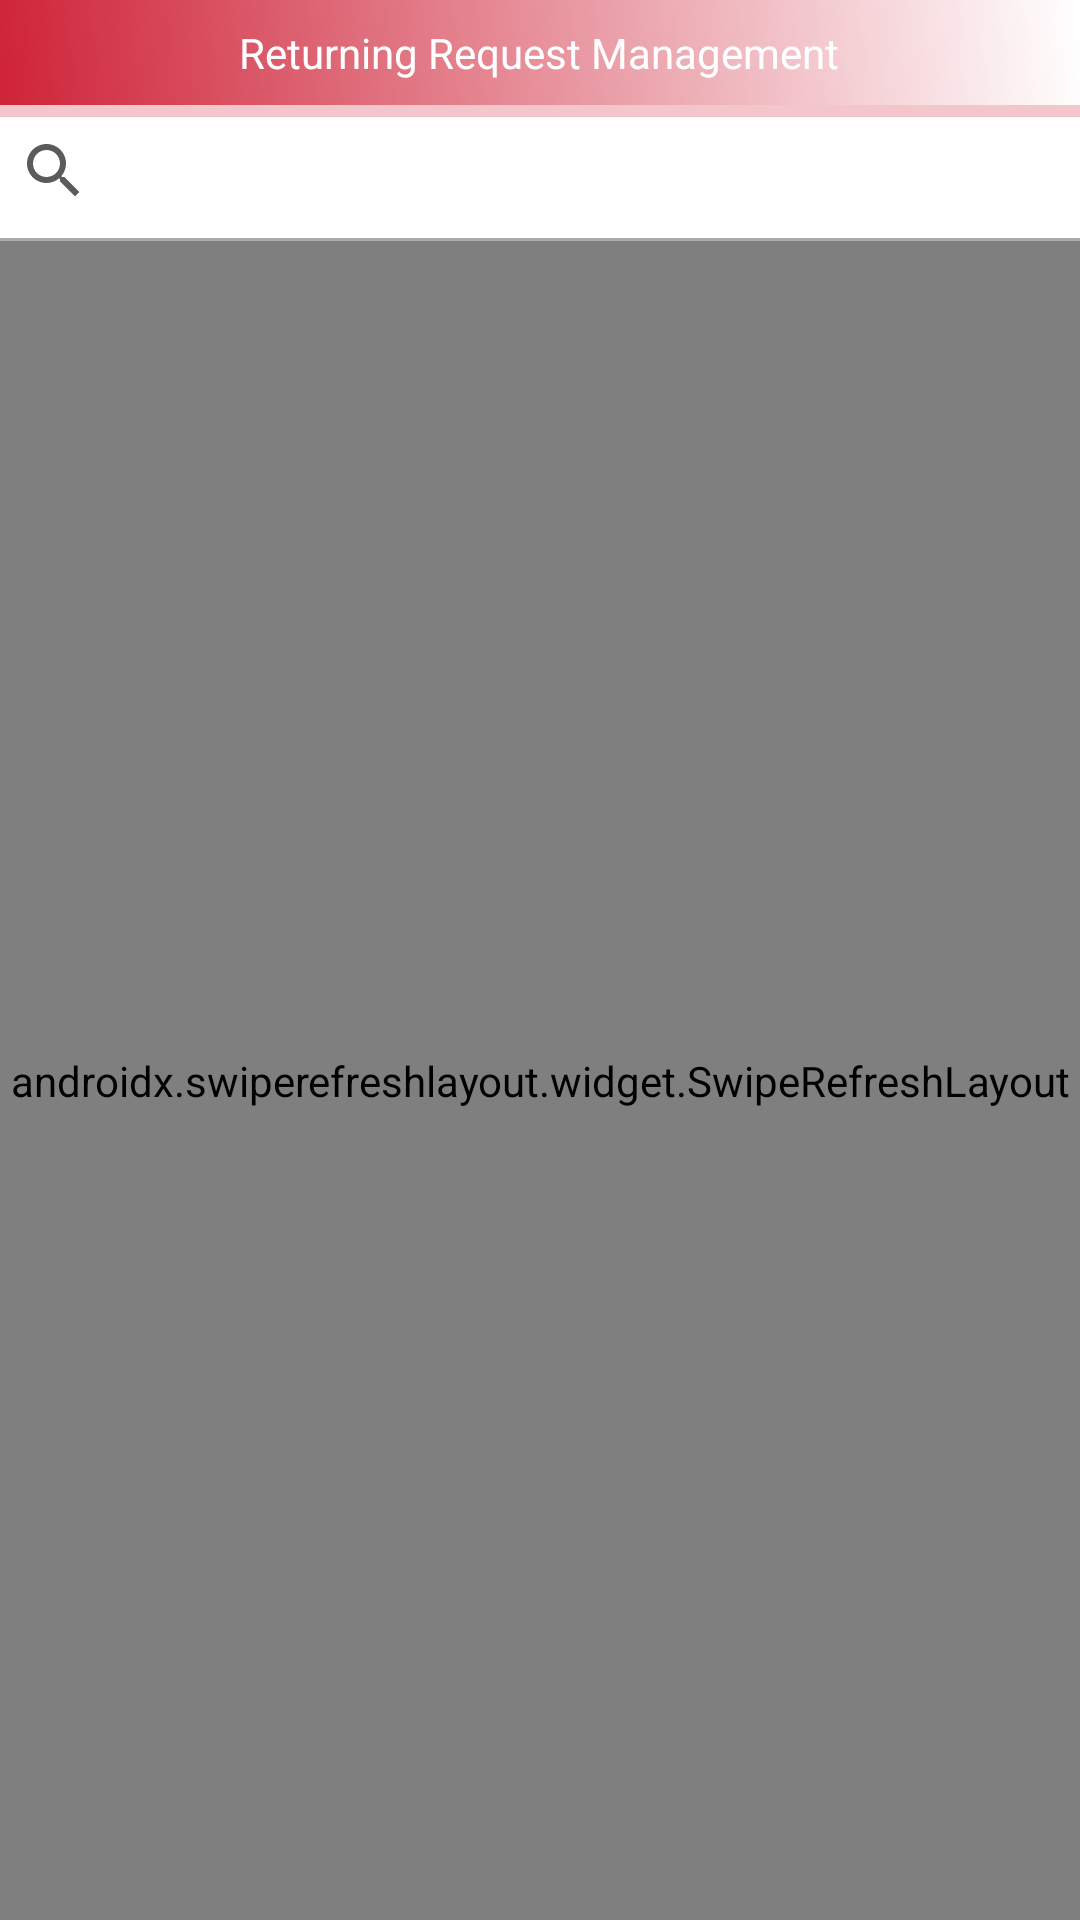

Locate icon controls on the screen. Image size 1080 x 1920, boxes as (x1, y1, x2, y2).
search: (27, 144, 79, 196)
